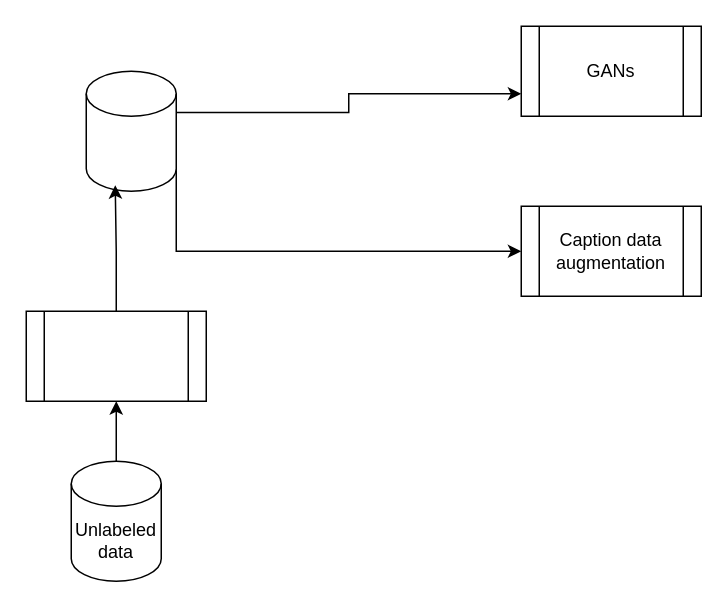
Image size: 728x608. Some labels were removed from this diagram. Each missing label, with the centre of its shape:
Labeled data: (x=130, y=130)
Unsupervised labelling (e.g. using YOLO model)s: (x=115, y=355)
